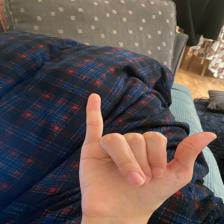five: (76, 92, 220, 216)
